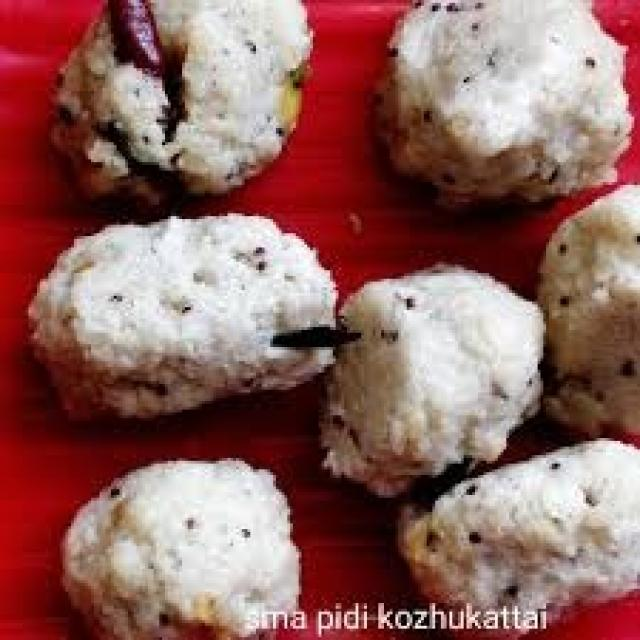pidi kolukattai: (27, 0, 640, 640)
